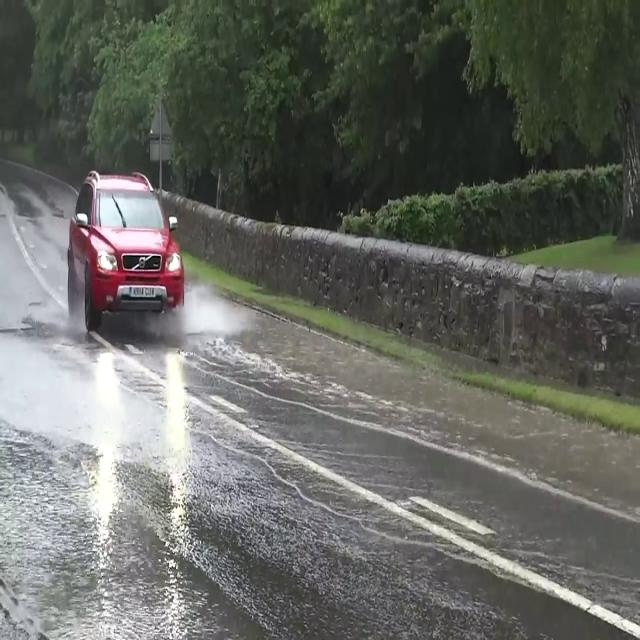license-plate-annotation: (127, 284, 157, 308)
